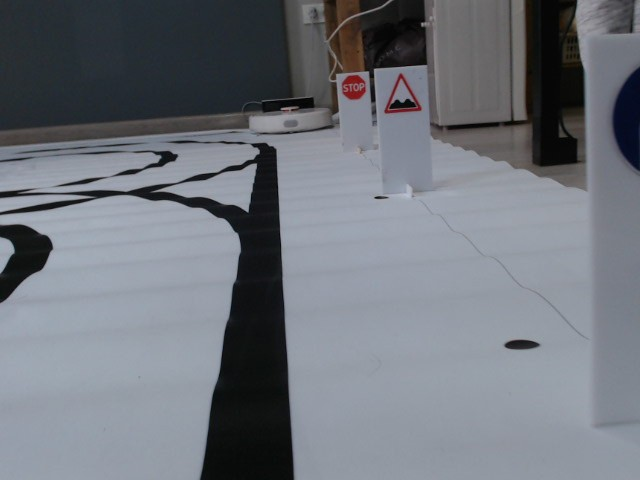Nerov: (384, 73, 424, 114)
Stop: (339, 74, 367, 100)
